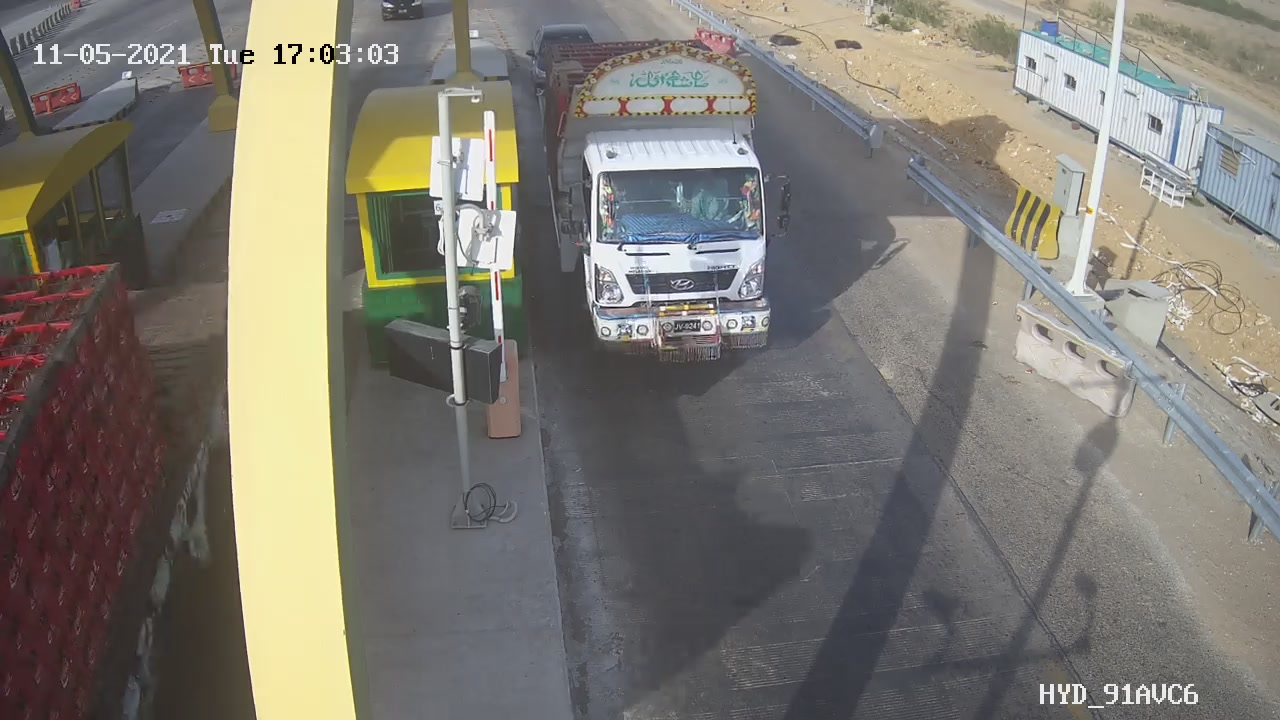F5: (524, 18, 811, 390)
